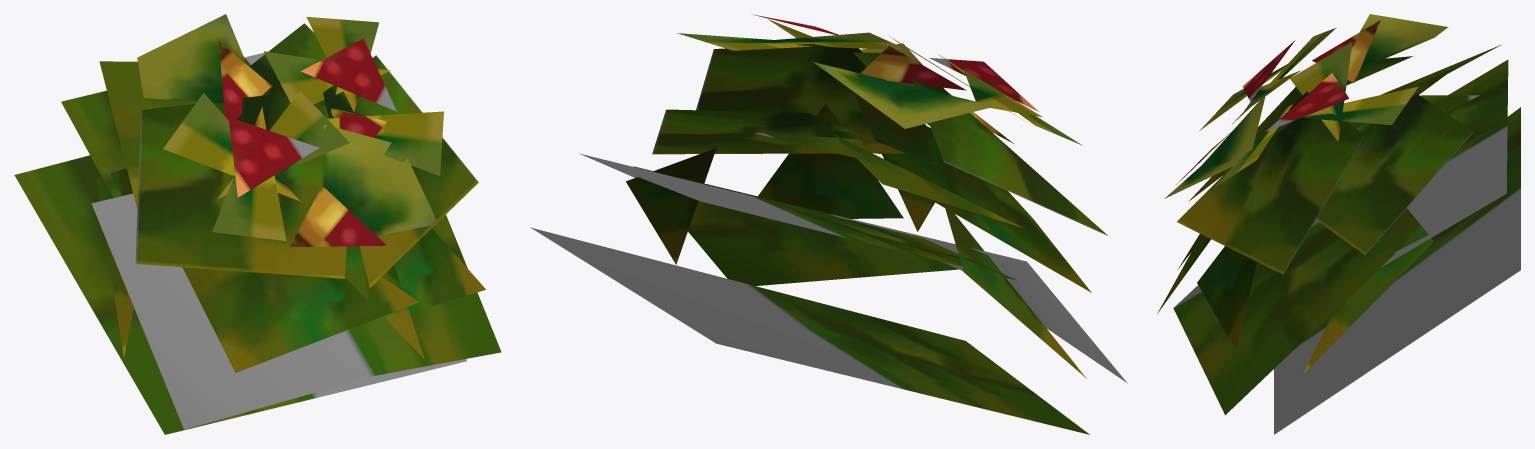
Rendered from fg_bushA_2.dae.
The picture shows the model from 3 angles, left to right: view 1: azimuth 30°, elevation 25°; view 2: azimuth 150°, elevation 25°; view 3: azimuth 270°, elevation 25°; orthographic projection. The views are drawn at different scales.
Visible parts, largest first — view 1: fg_bushA_2; view 2: fg_bushA_2; view 3: fg_bushA_2.
Part boxes in pixels (box(x1,y1,x2,y2)): fg_bushA_2: box(14, 14, 501, 434); fg_bushA_2: box(530, 14, 1127, 434); fg_bushA_2: box(1157, 14, 1520, 434).
Bounding box in the file's own units: 42.31 × 37.65 × 38.65.
Materials: 1 (1 with a texture image).
